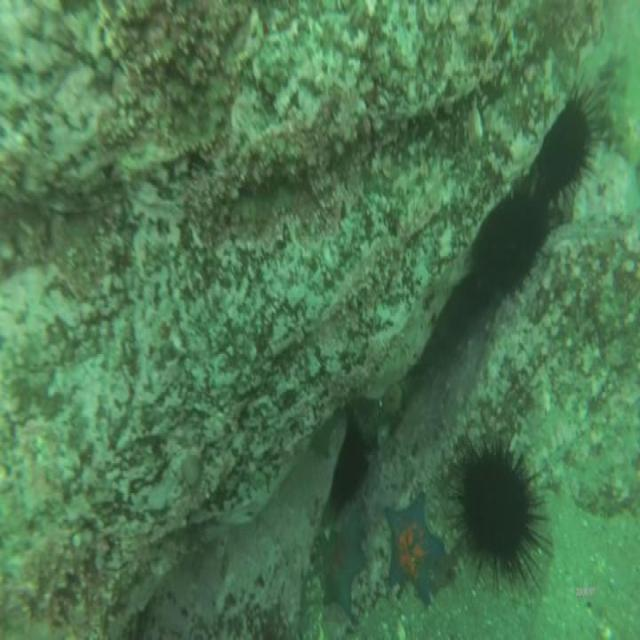echinus: (455, 433, 539, 597), (471, 183, 540, 308), (535, 95, 592, 215), (322, 409, 370, 504)
starfish: (382, 491, 446, 607), (316, 513, 370, 618)
